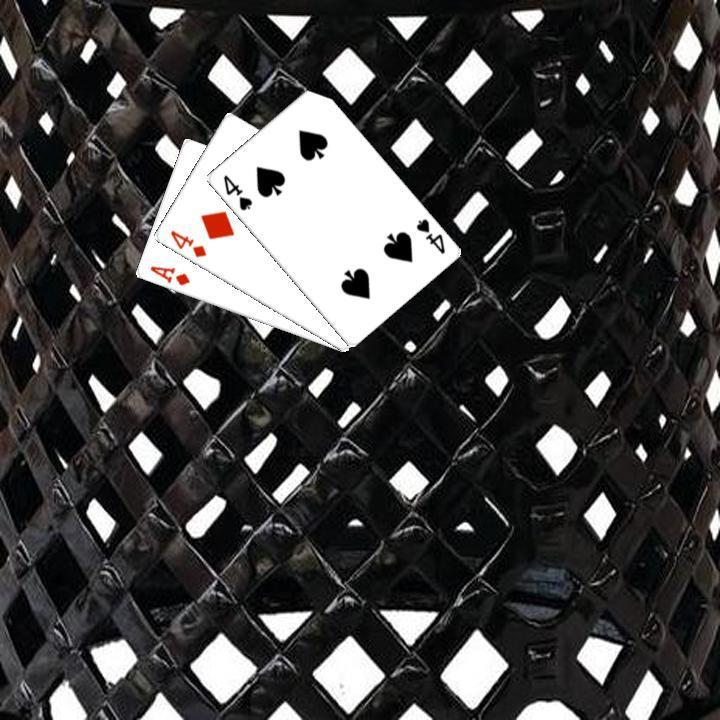4: (218, 170, 254, 212), (411, 214, 447, 256), (165, 226, 208, 260)
A: (145, 261, 192, 288)
